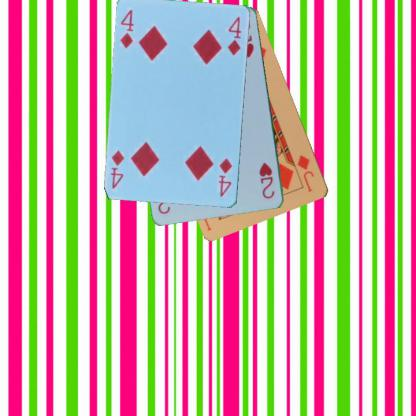2h: (257, 160, 276, 201)
4d: (117, 8, 136, 50), (216, 156, 234, 198)
Jd: (295, 152, 316, 194)
